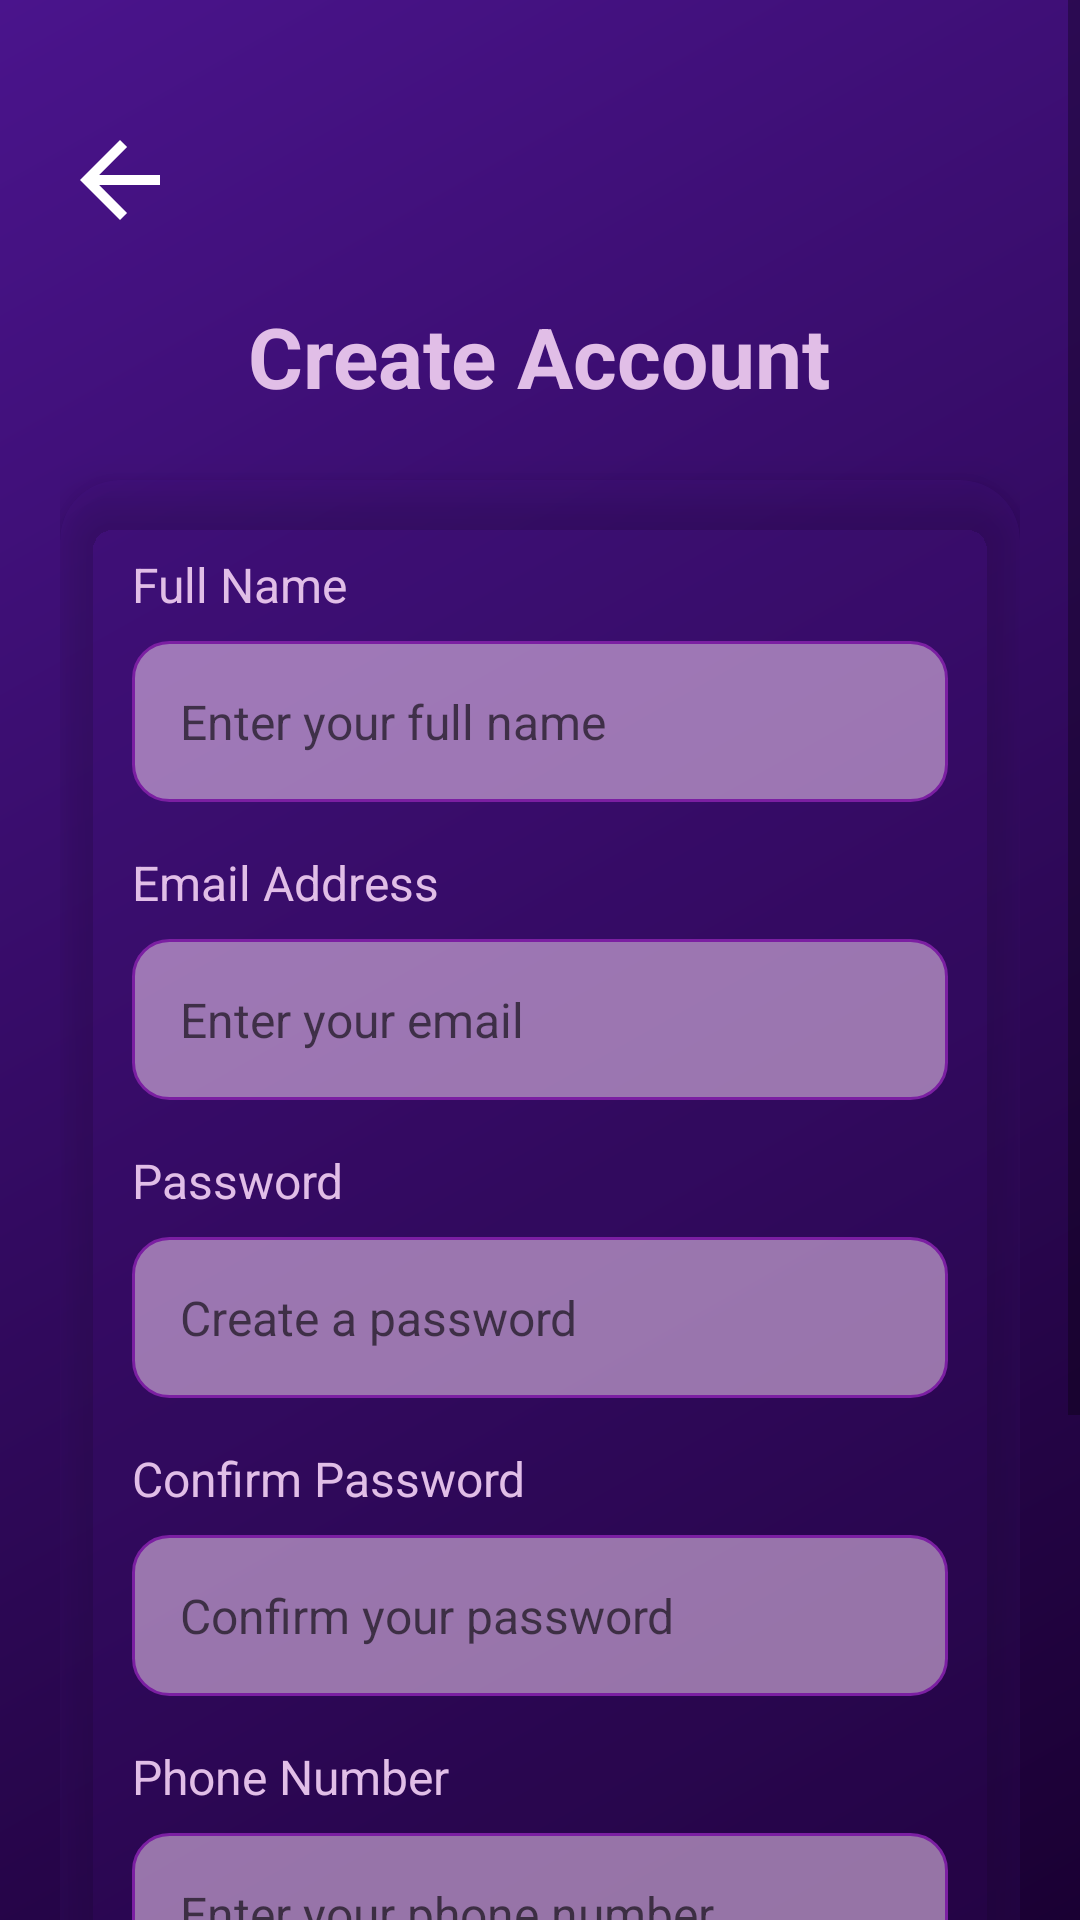

Screen size 1080px×1920px. Icon name, then its center in pixels as (x=x, y=y):
Back: (x=120, y=180)
